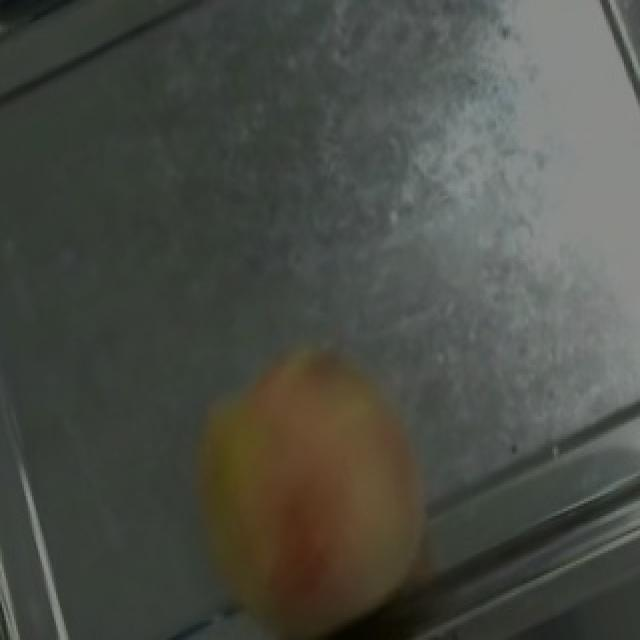Fruit: (148, 307, 480, 640)
